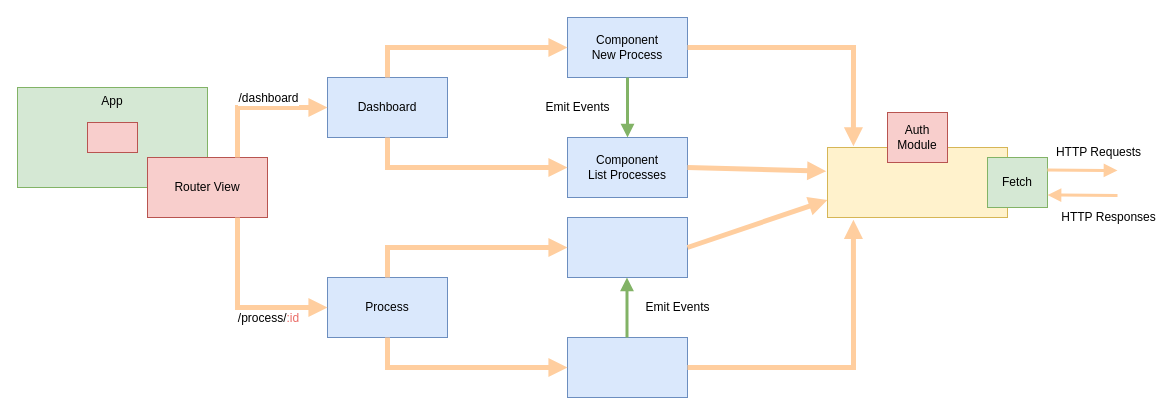
Image size: 1173x415. Some labels were removed from this diagram. The centre of each missing label's shape, as x and y in pixels:
Component List Equivalences: the point at 627,247
Component New Equivalence: the point at 627,367
DataService: the point at 917,182
Vuex: the point at 112,137
